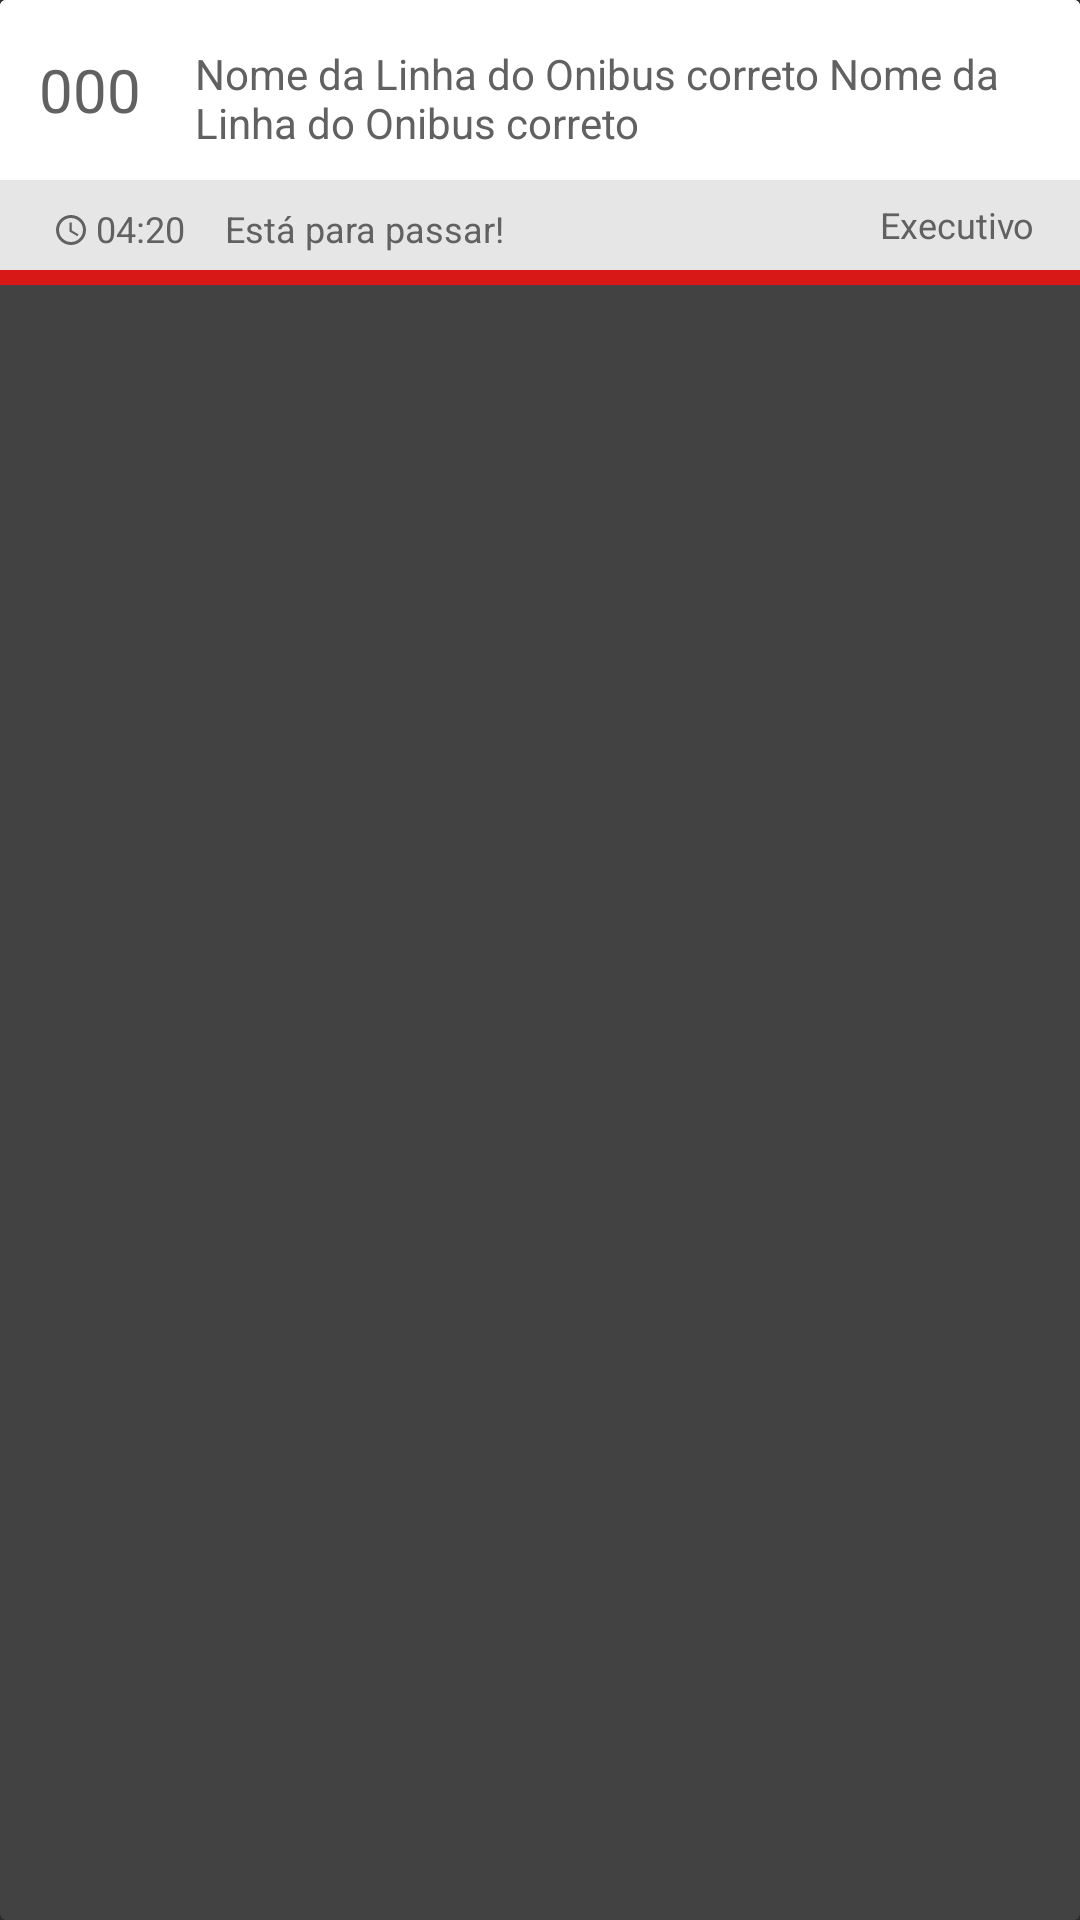

Icons on this 1080 x 1920 Android screen, each with the point to tap as [x,y]:
relogio branco: [71,230]
